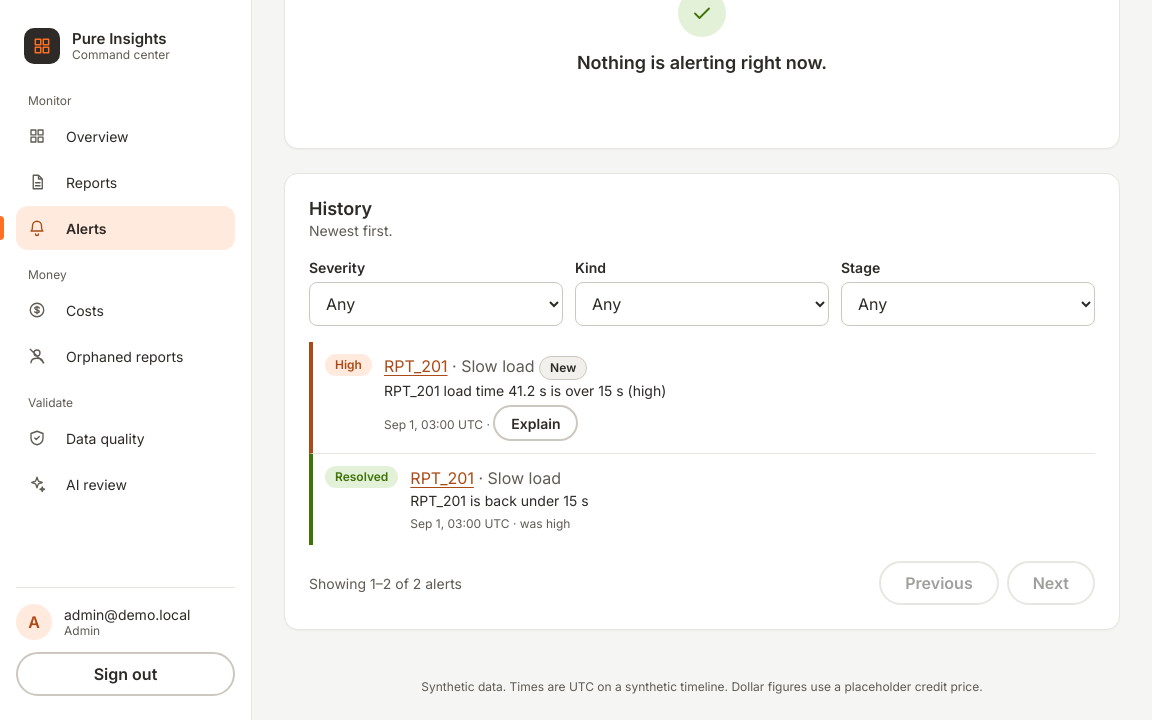
Explain this alert: the checked answer stands in, and decisions happen on the alert › an admin decides on the alert itself: approve sends the note, then the panel reloads
(page scrolled)
Click the button with aria-label "Explain alert 1" at (536, 423), box [493,405,578,441]
(page scrolled)
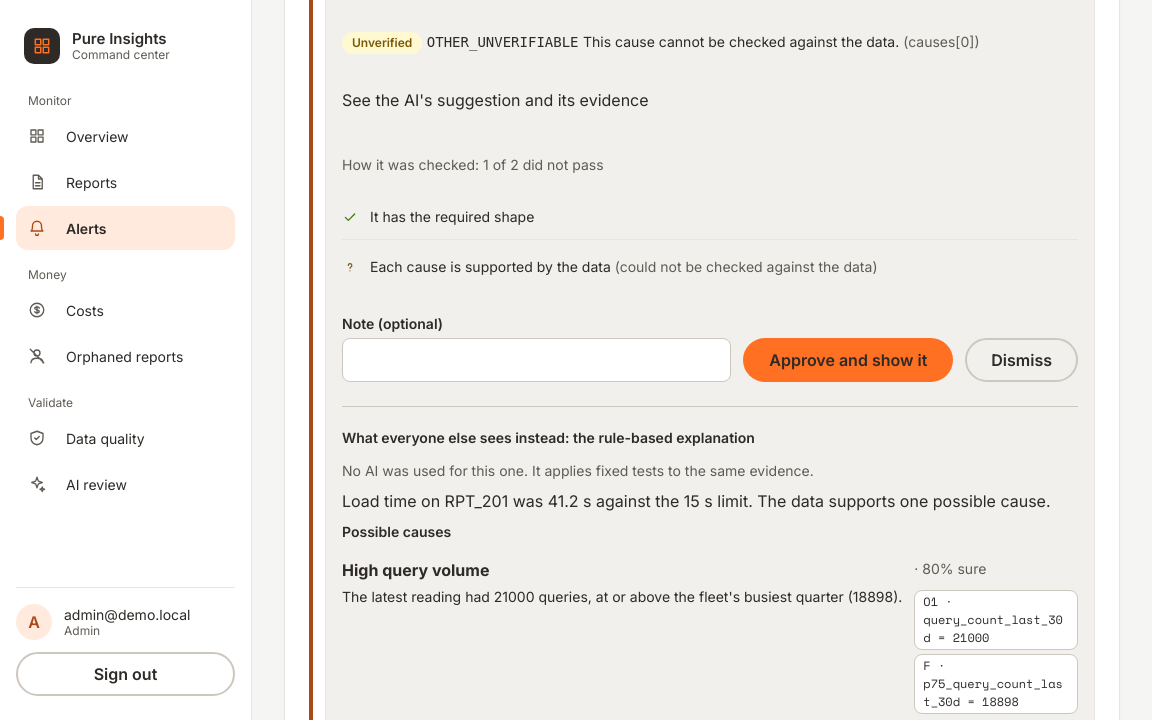
Type "Looks right" into the field labelled "Note (optional)" at (537, 360), box [342,338,731,382]
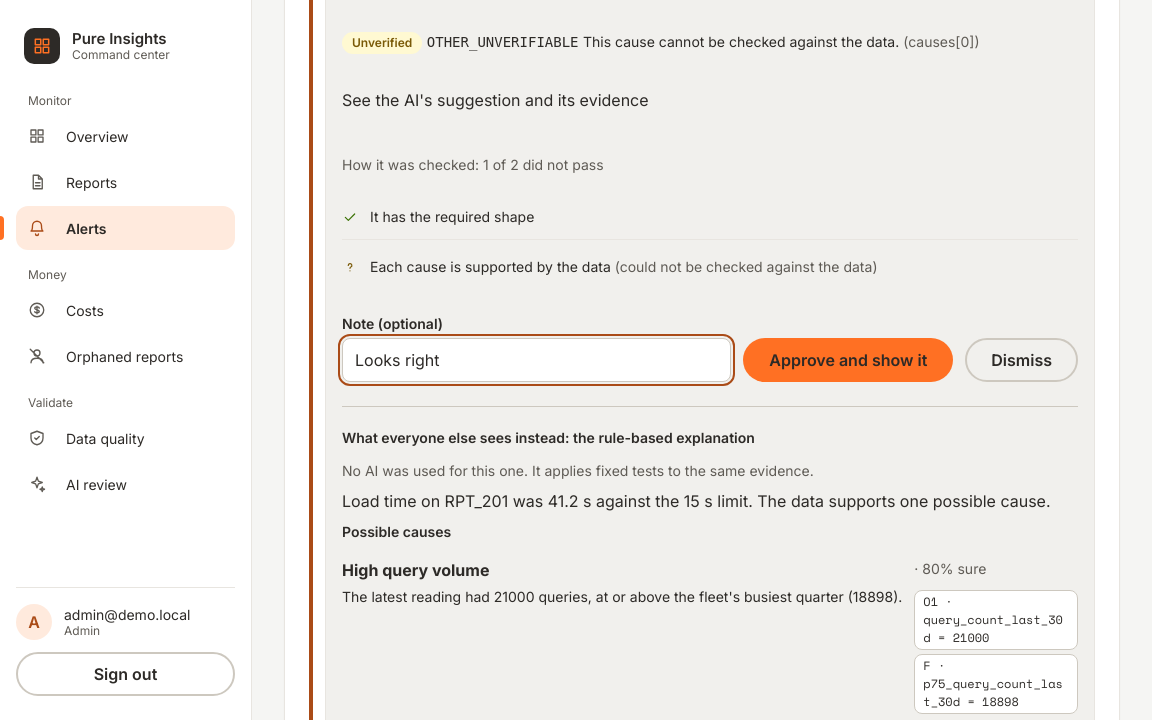
Click the button with aria-label "Approve the suggestion for alert 1" at (848, 360), box [743,338,953,382]
(page scrolled)
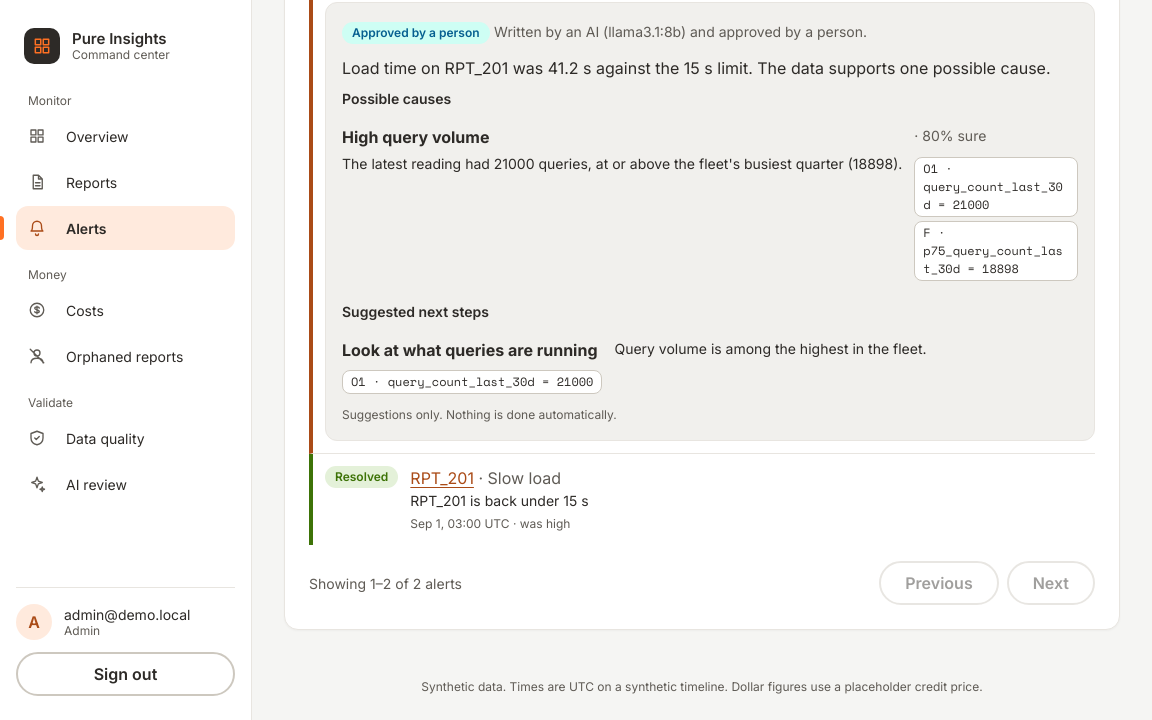
expect the text "Approved by a person" is shown: met, box [342,22,490,44]
